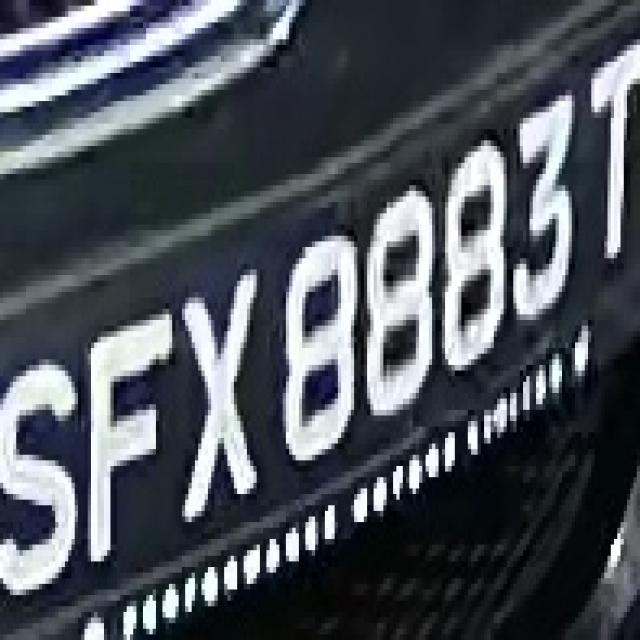3: (510, 90, 575, 320)
8: (357, 168, 442, 444), (280, 230, 354, 477), (442, 146, 513, 393)
F: (78, 314, 172, 606)
S: (6, 342, 78, 612)
T: (578, 40, 637, 258)
X: (179, 247, 260, 533)
